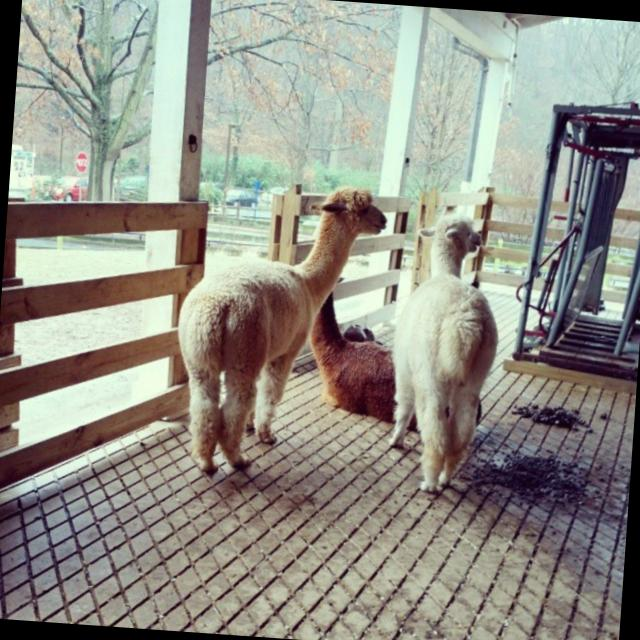alpaca: (168, 174, 386, 487), (382, 206, 506, 496)
